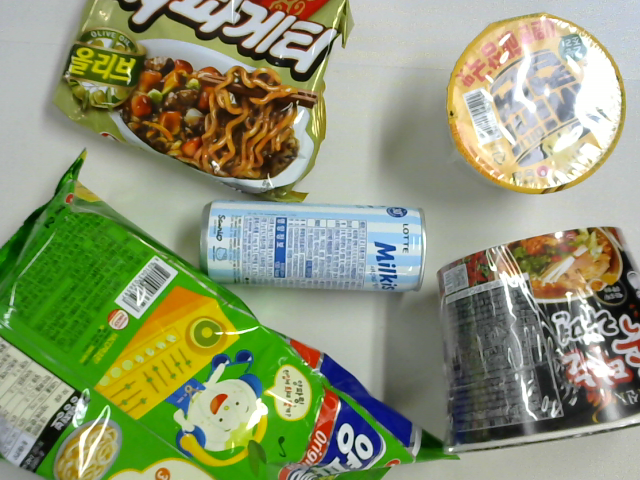HeJangsock: (431, 223, 640, 455)
Milkies_250ml: (188, 200, 426, 289)
Olive_Chapaghetti: (48, 1, 352, 186)
Oninon_Ring: (1, 196, 417, 471)
Udongmini: (453, 12, 627, 186)
